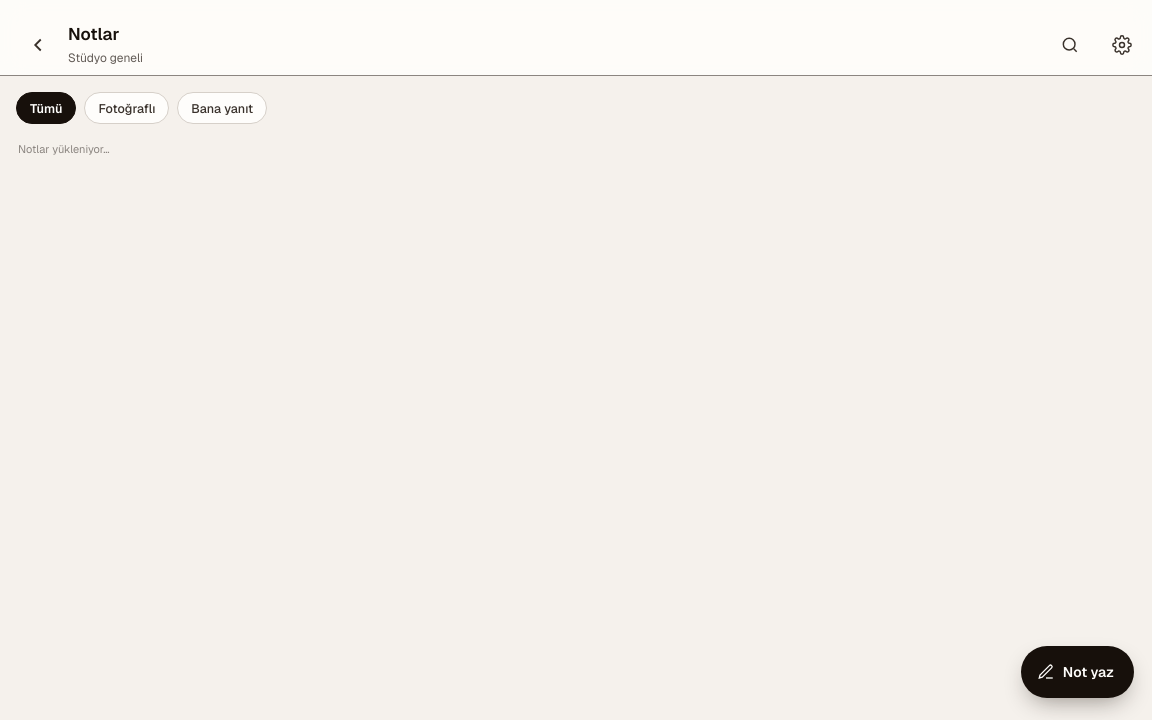
it: Mobil notlar › yeni not composerında fotoğraf ekleme kontrolünü gösterir
Click the button "Not yaz". click: (1077, 672)
box: x1=1021 y1=646 x2=1134 y2=698
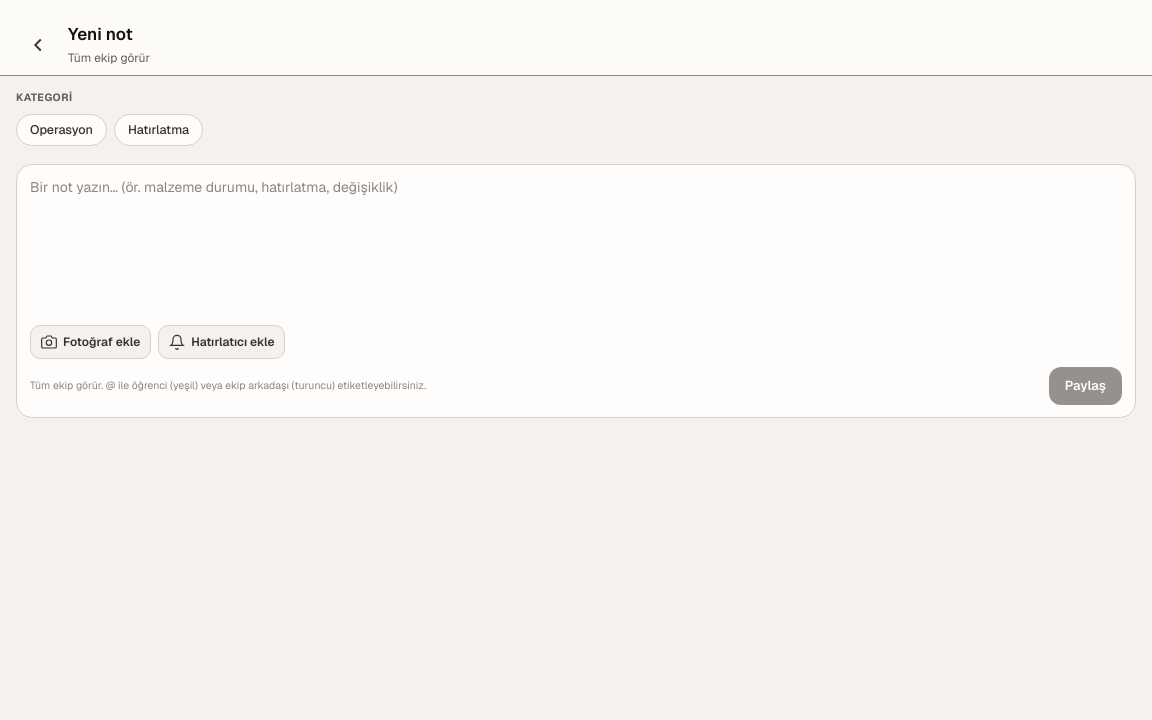
Expected: the button "Fotoğraf ekle" is shown, x1=30 y1=325 x2=151 y2=359
